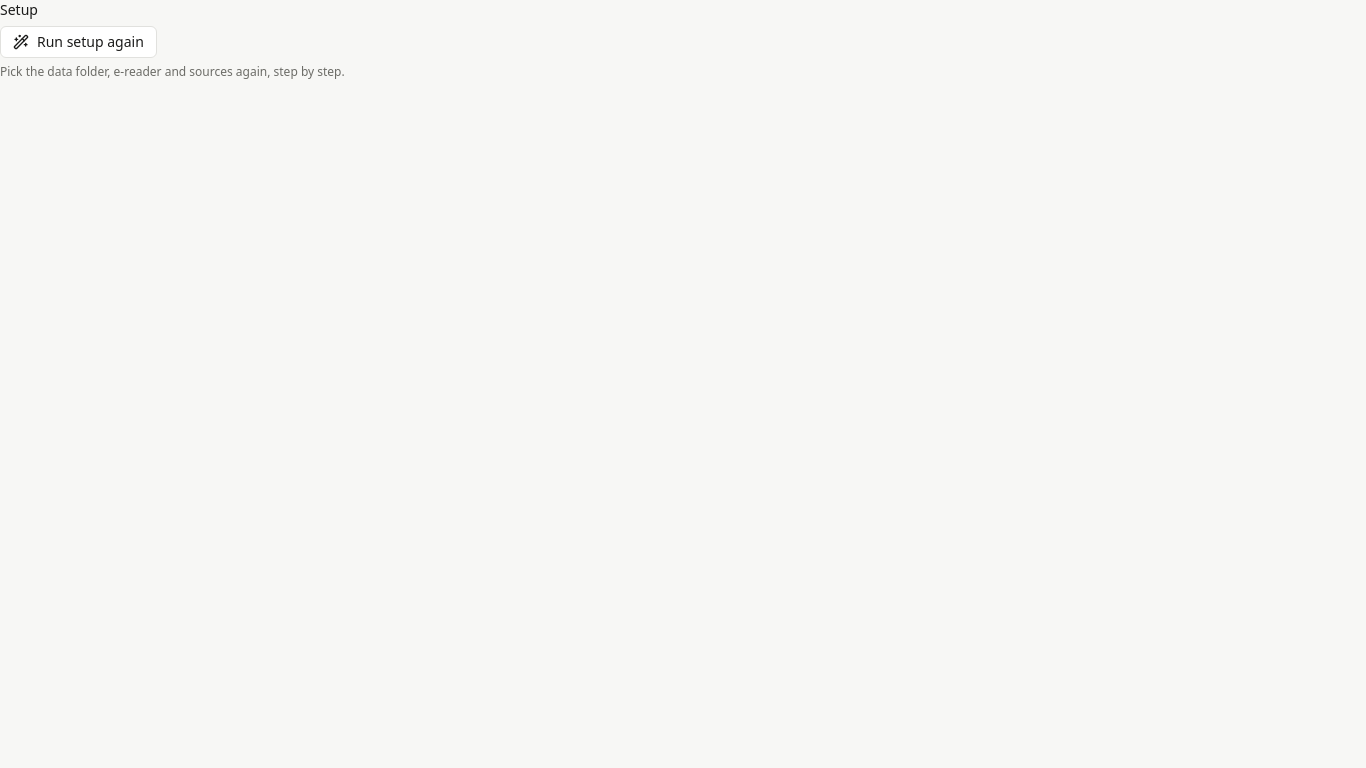
Scenario: first-run setup › reopens from Settings → Run setup again
Click the button "Run setup again" at {"x": 78, "y": 42}, box 0,26 -> 157,58
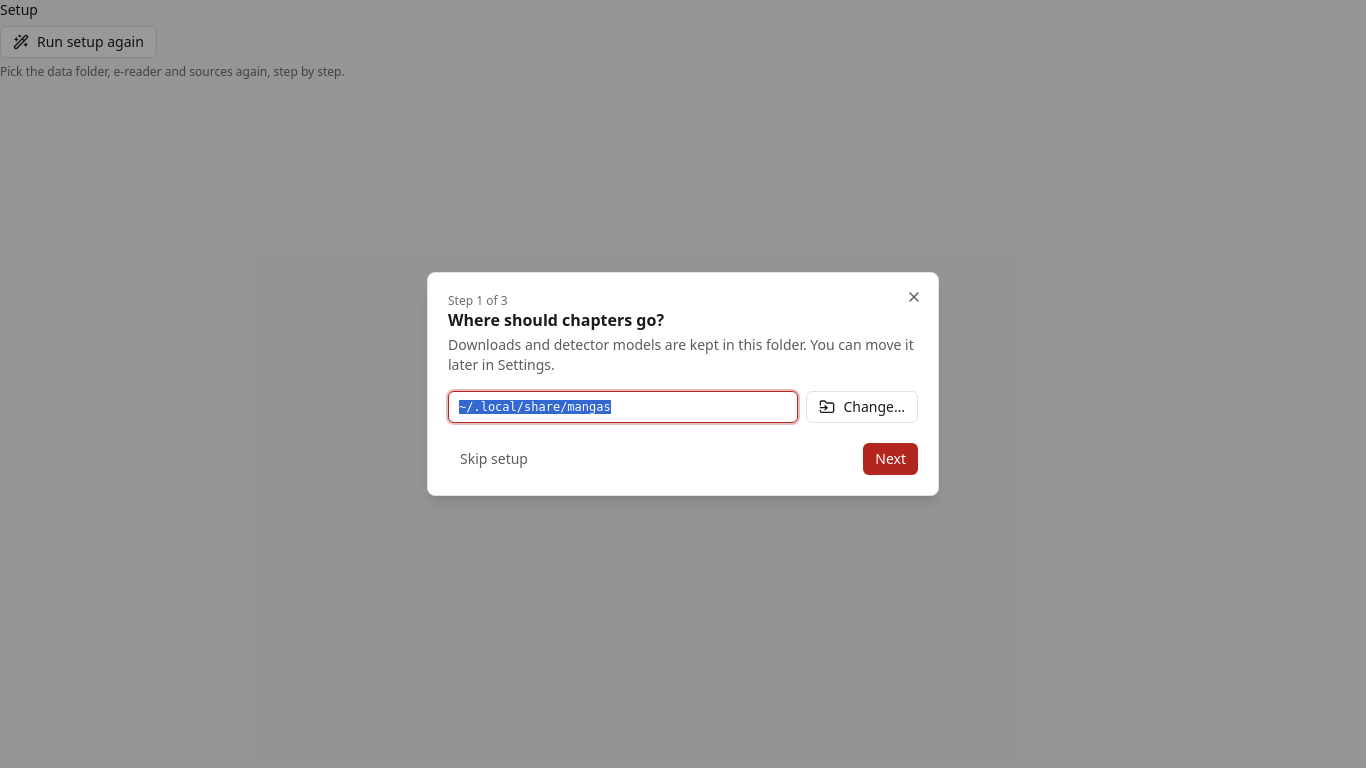
Now the text "Step 1 of 3" is shown, box 448,292 -> 508,309
Click the button "Next" at {"x": 891, "y": 459}, box 863,443 -> 918,475
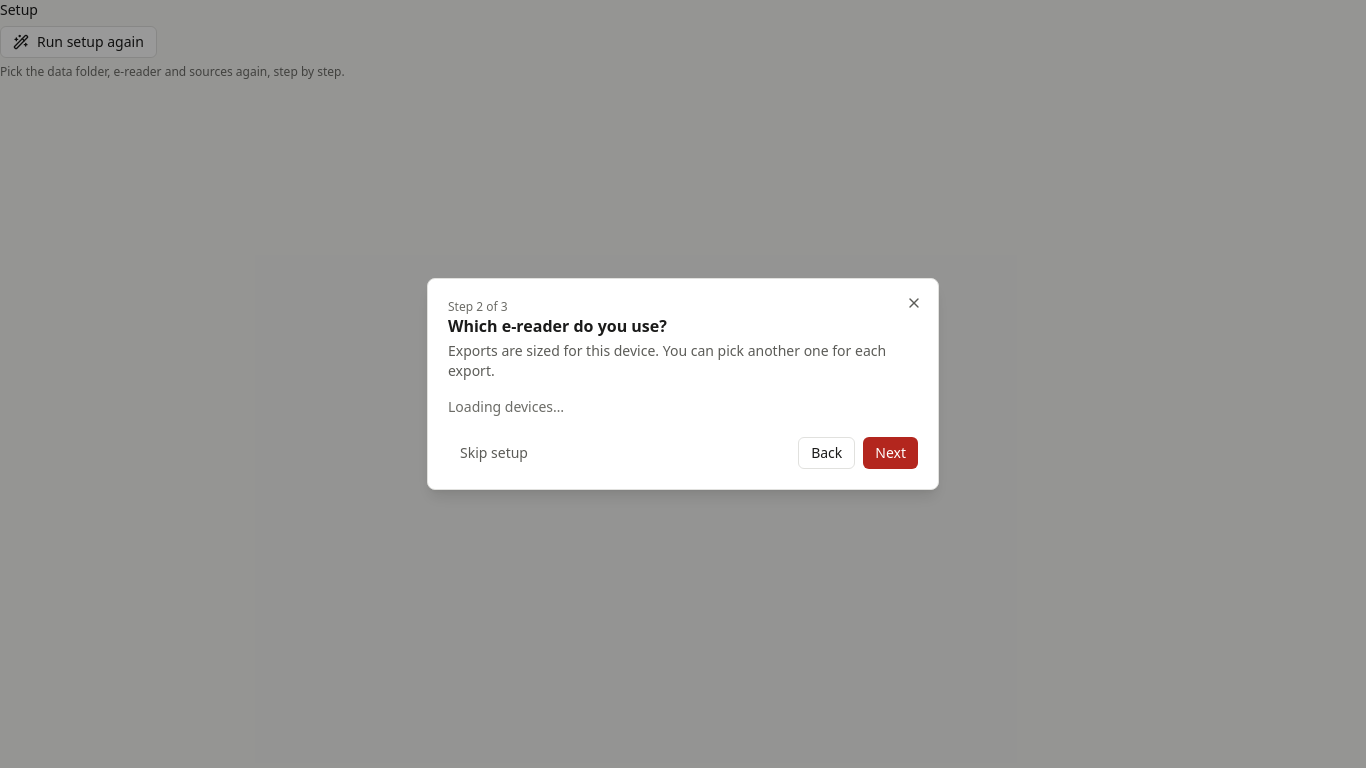
Click the button "Back" at {"x": 827, "y": 453}, box 798,437 -> 855,469
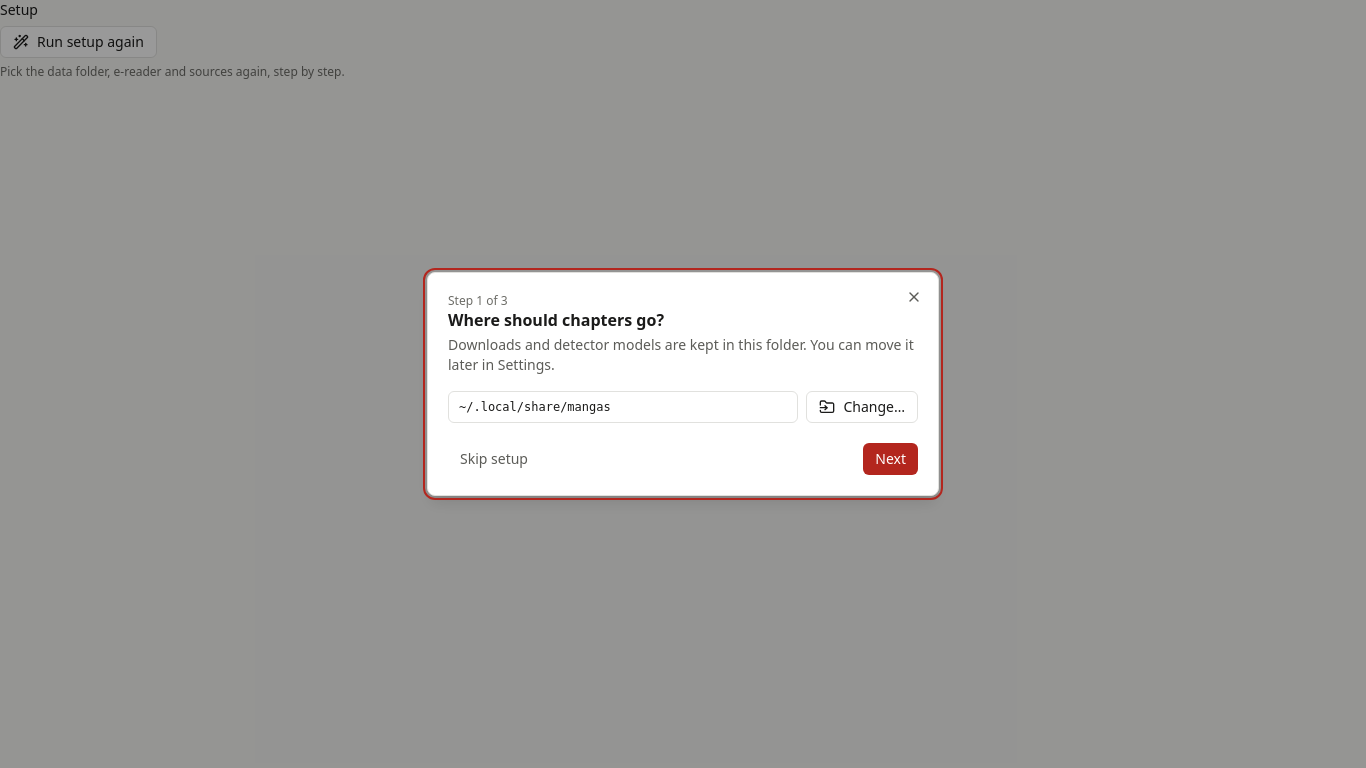
Now the text "Step 1 of 3" is shown, box 448,292 -> 508,309
